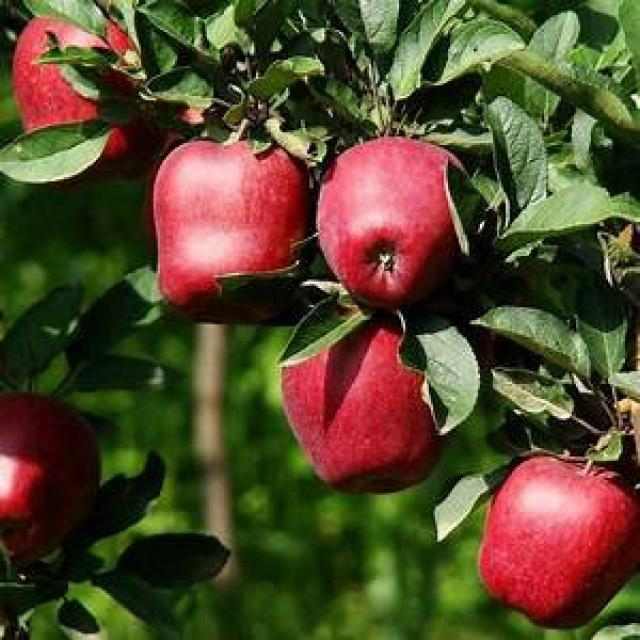apple: (279, 315, 450, 496), (475, 456, 640, 633), (315, 137, 471, 307), (151, 144, 302, 306)
